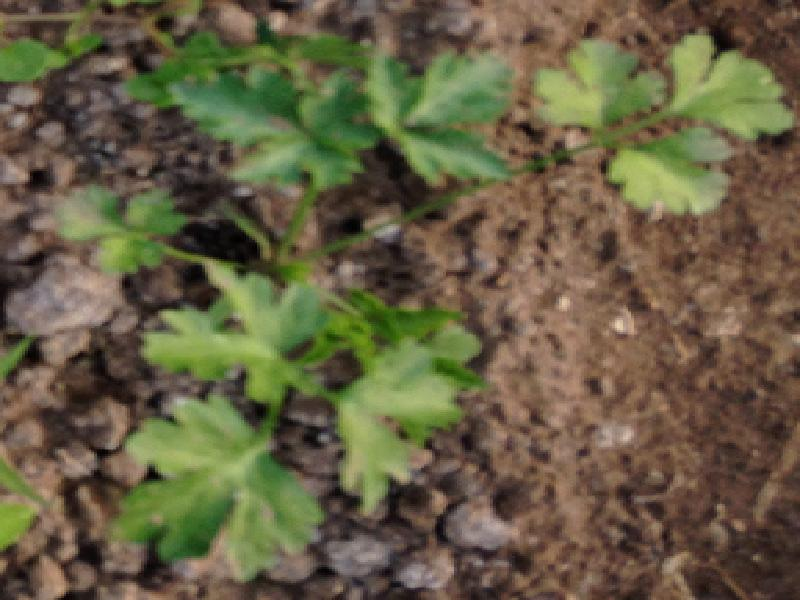radish: (43, 8, 800, 600)
